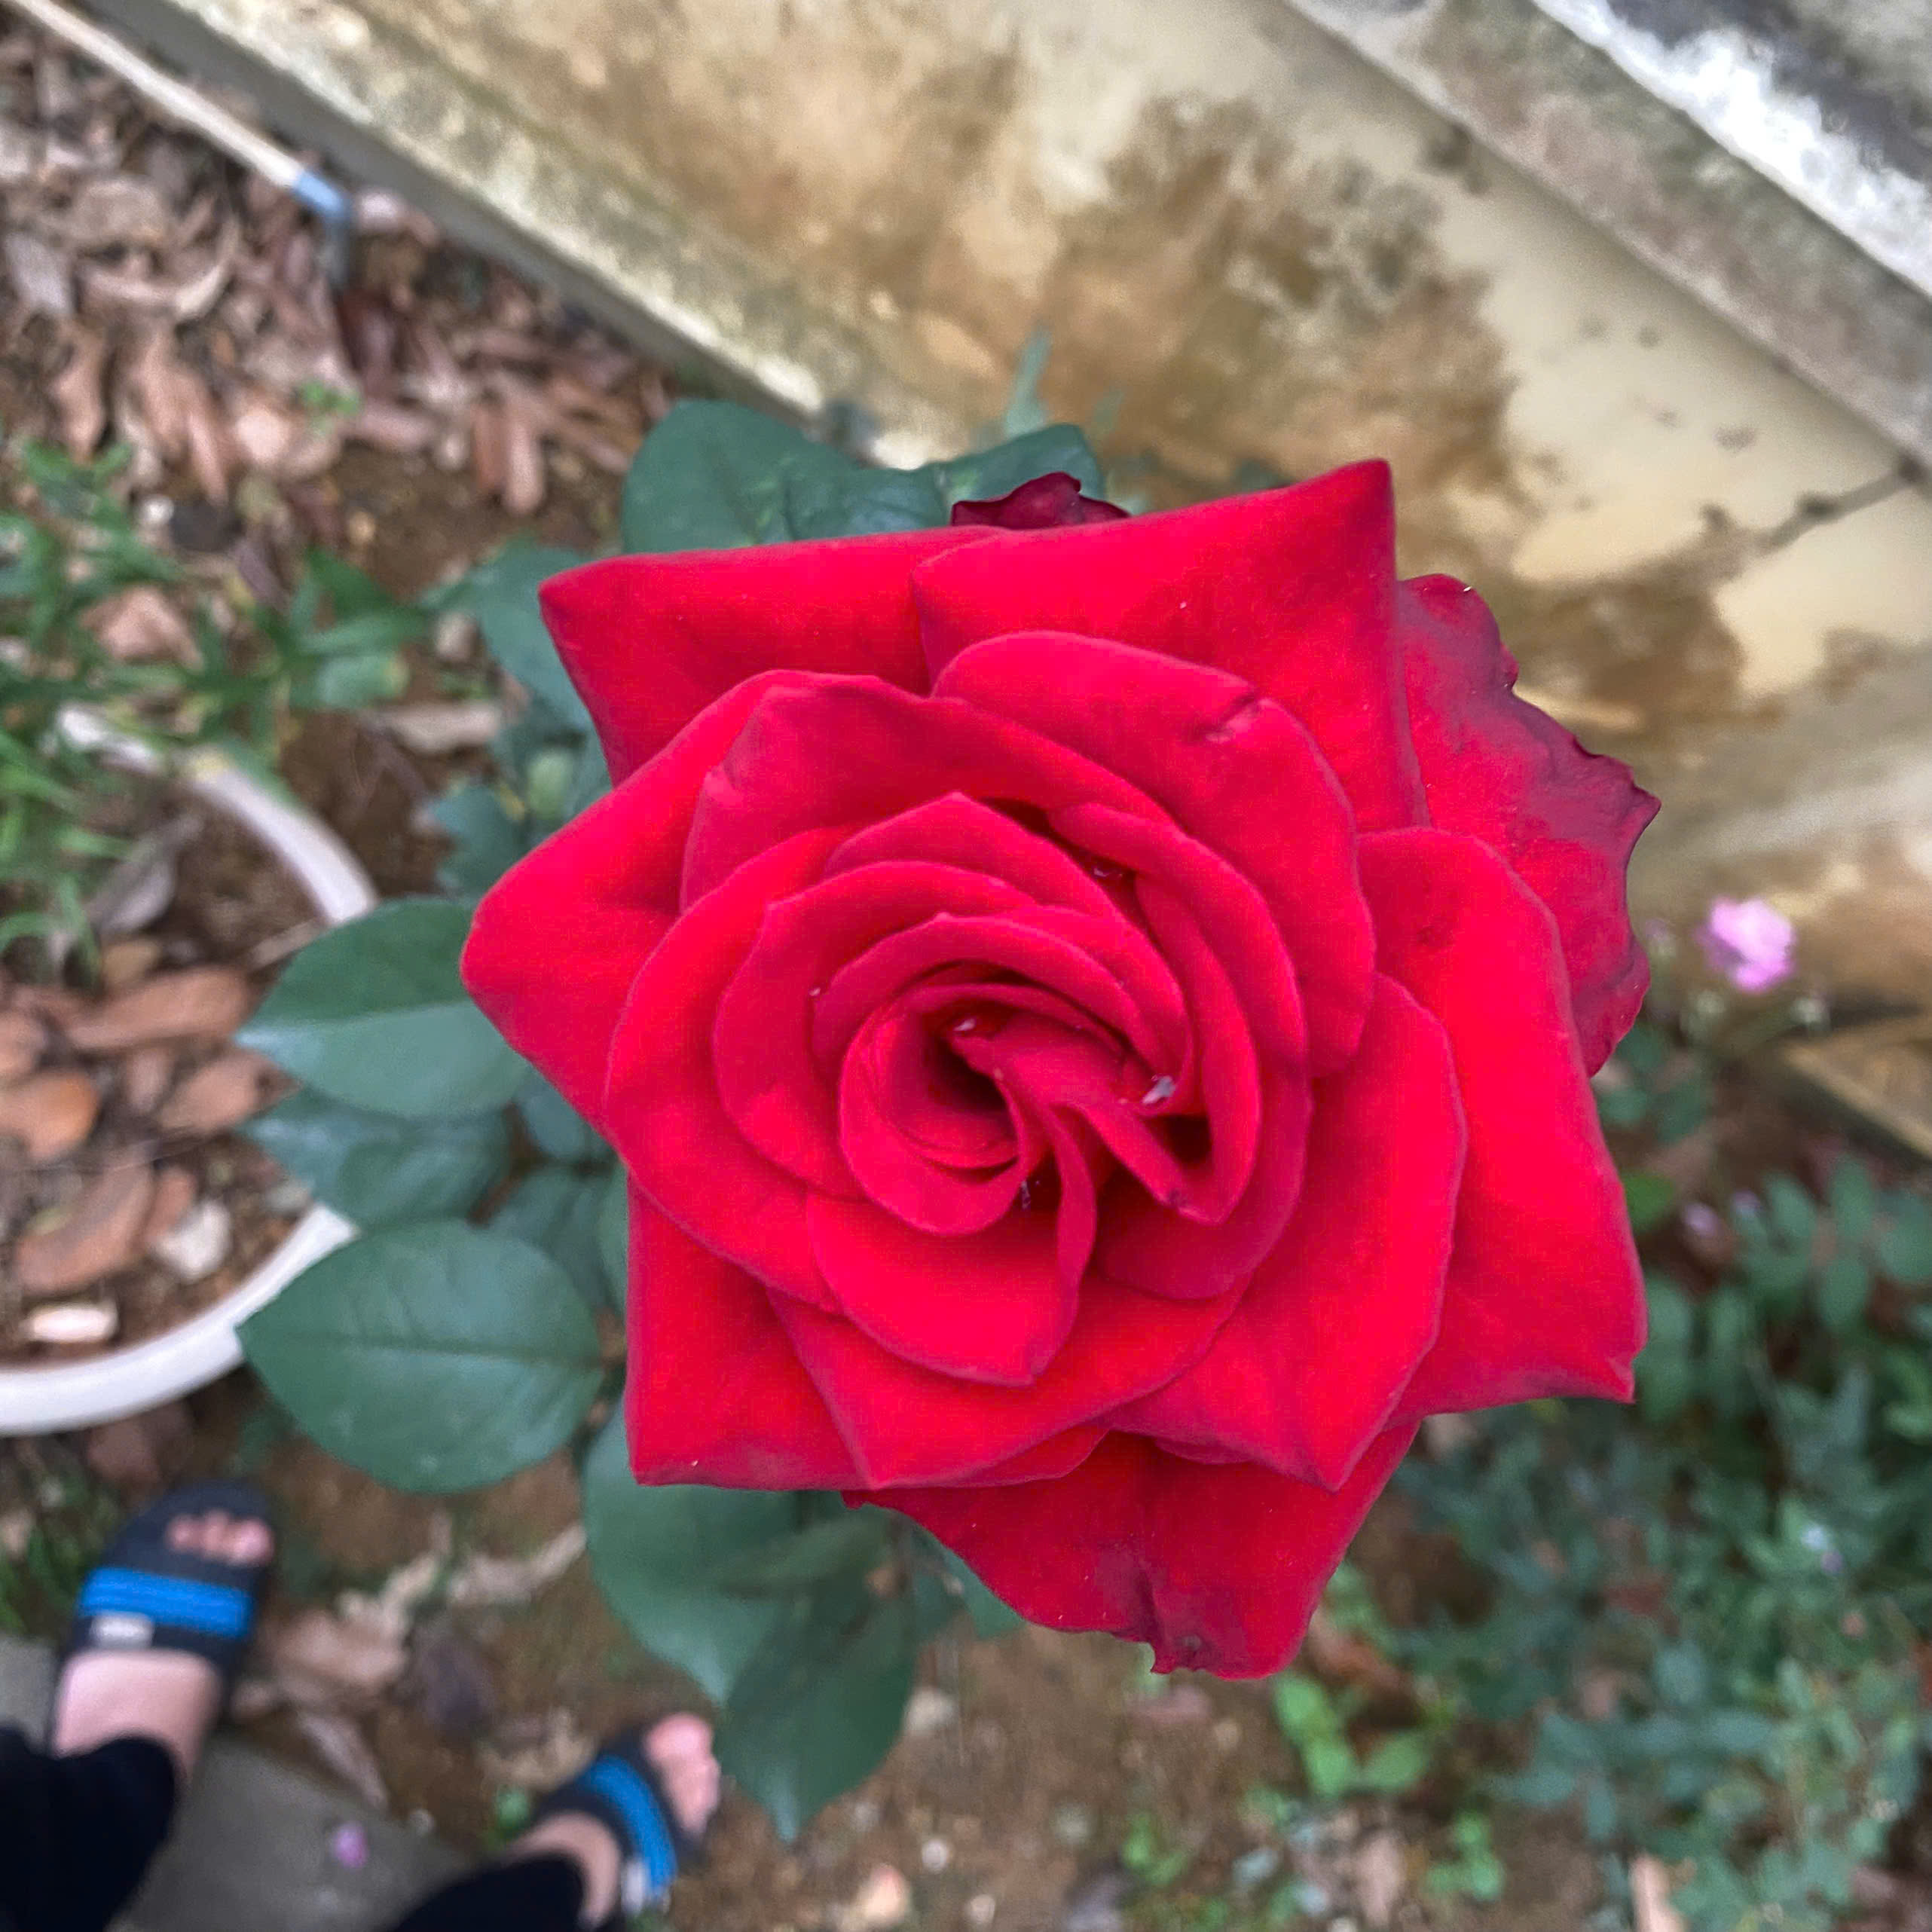hoa_hong_do: (234, 437, 1844, 1693)
